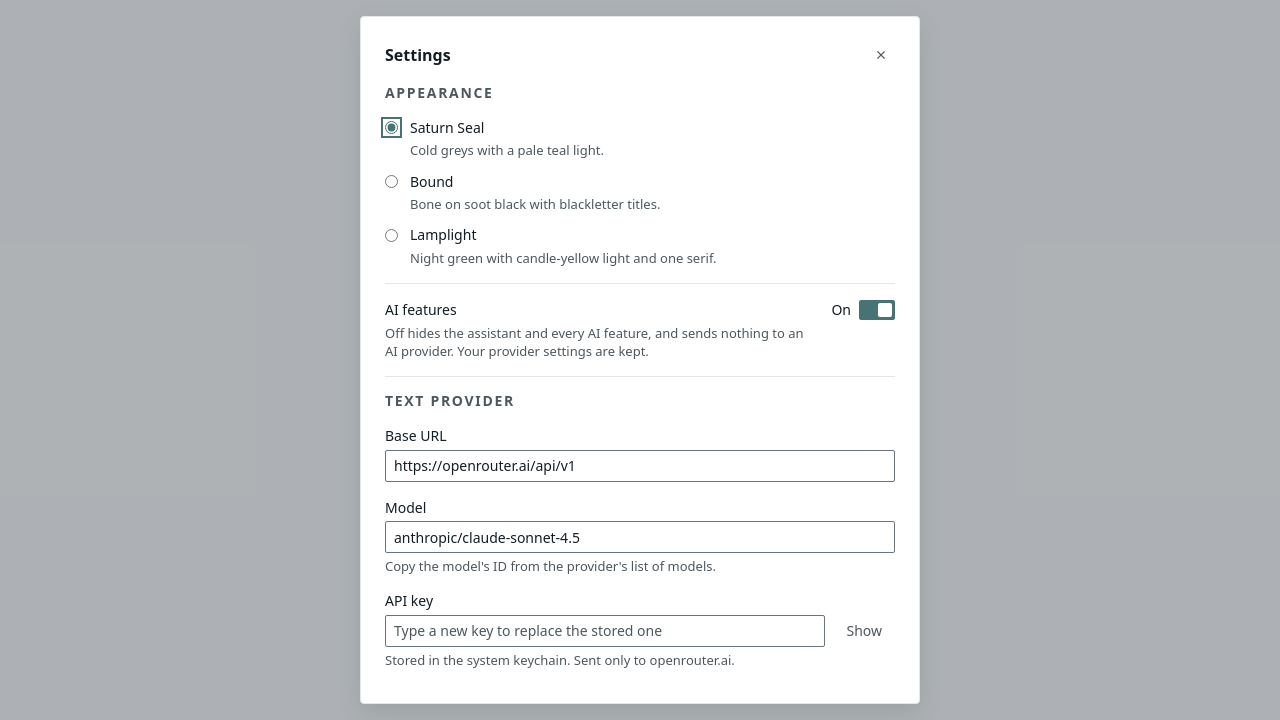
Settings › hides the provider when AI is switched off, and keeps the switch when that fails
Click the switch named "AI features".
click(877, 310)  # box top-left (859, 300), bottom-right (895, 320)
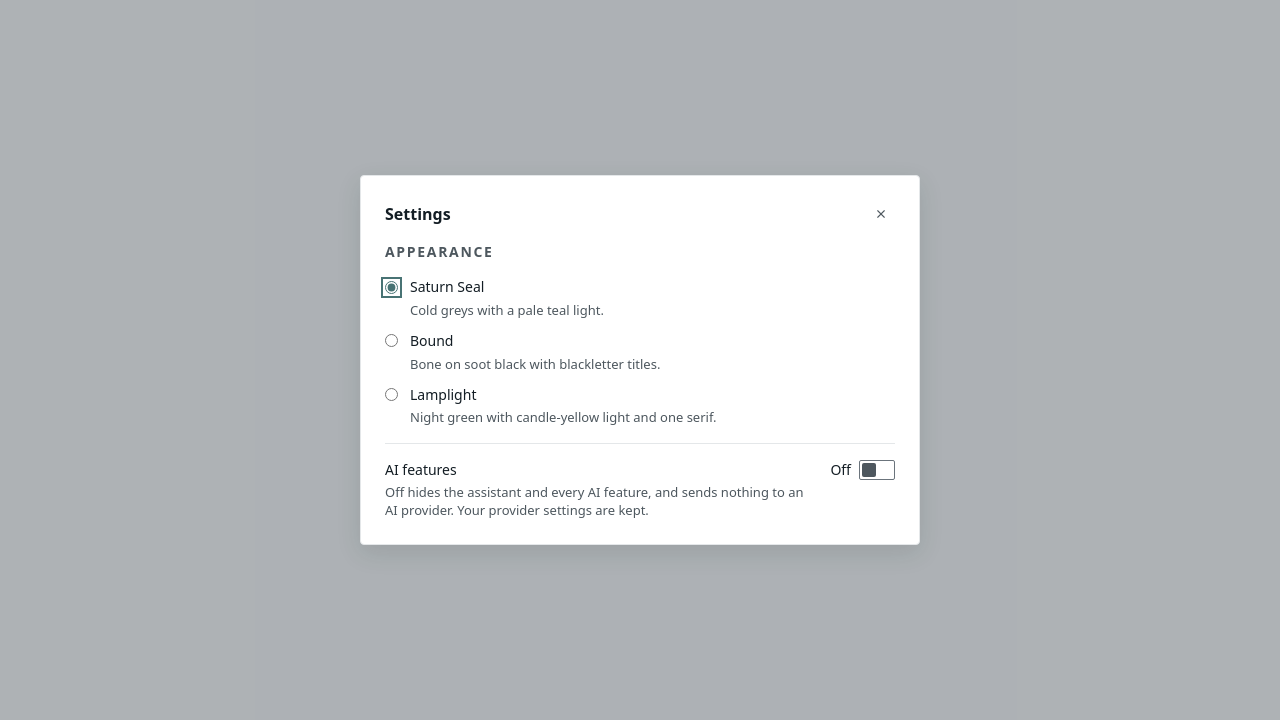
Check: the label labelled "Base URL" is gone
Click the switch named "AI features".
click(877, 470)  # box top-left (859, 460), bottom-right (895, 480)
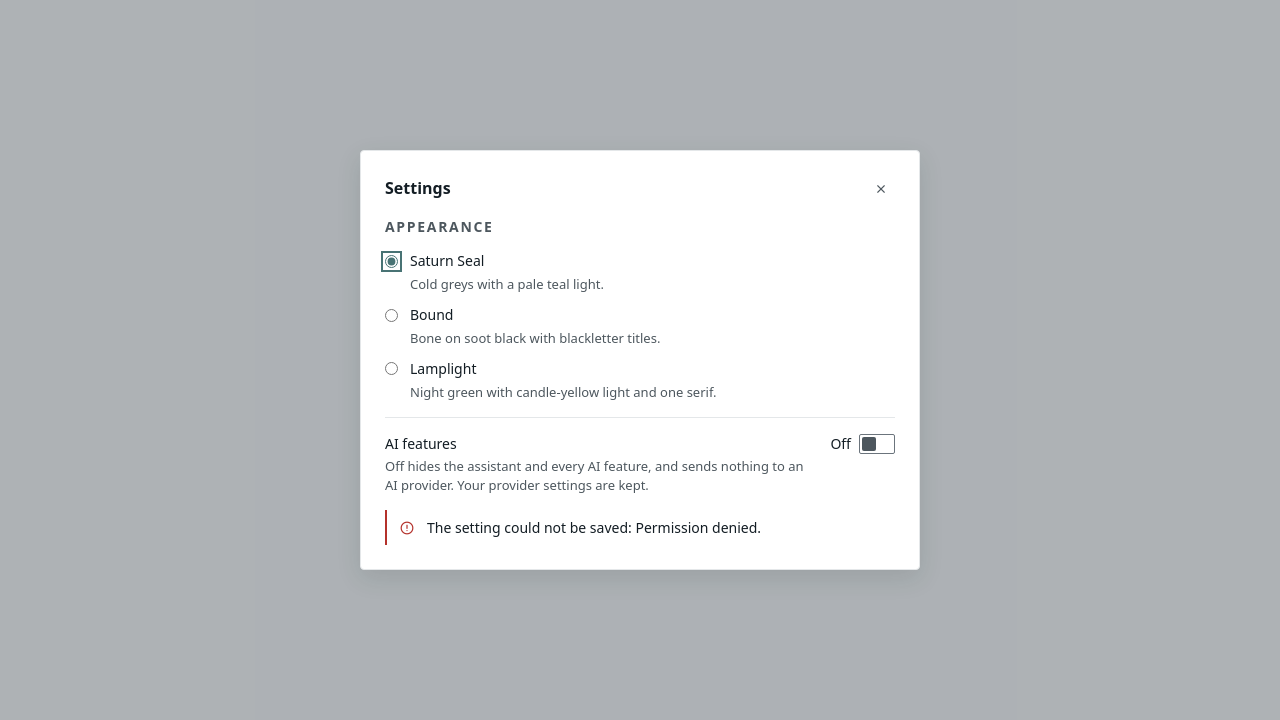
Check: the message shows "Permission denied.", box top-left (427, 518), bottom-right (761, 537)
